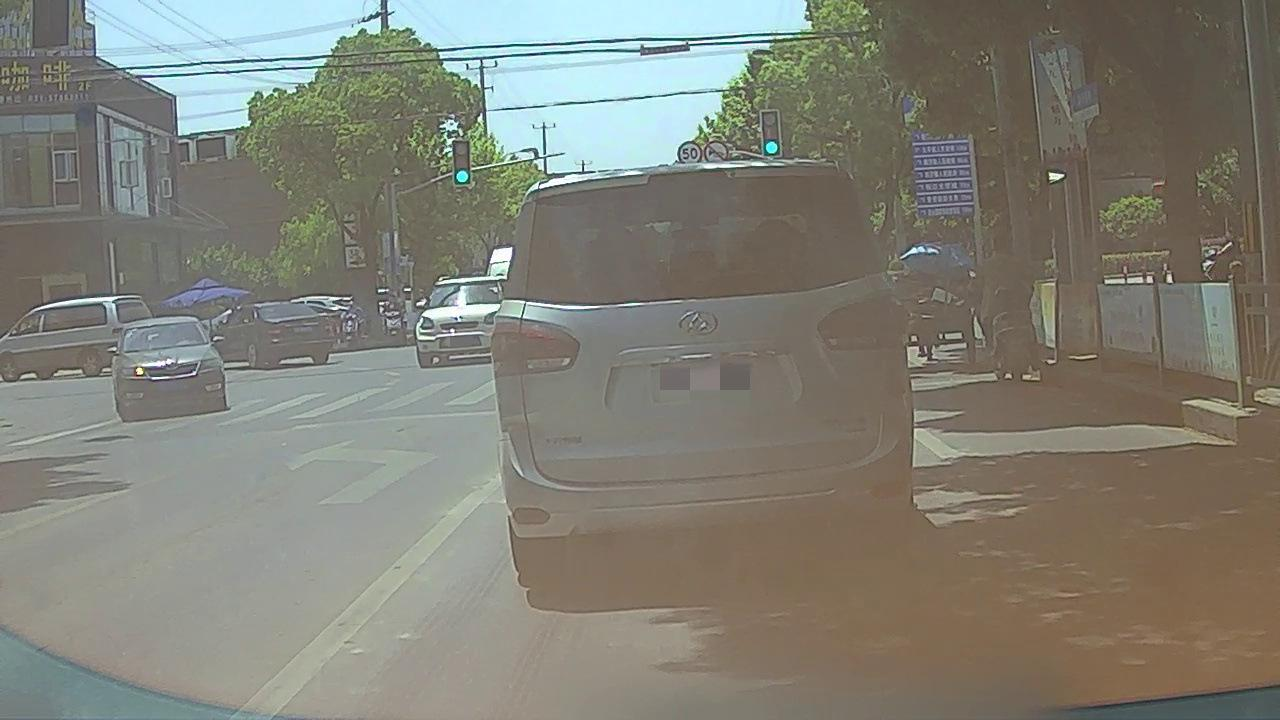traffic_light: (762, 111, 781, 158), (455, 141, 470, 185)
